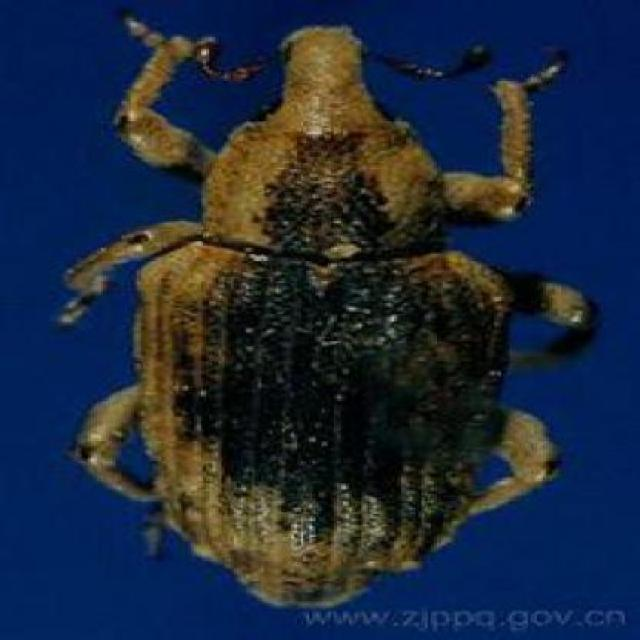rice-bug: (47, 12, 591, 600)
